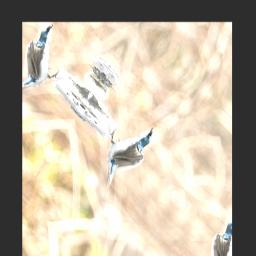Swallow: (83, 103, 161, 207)
